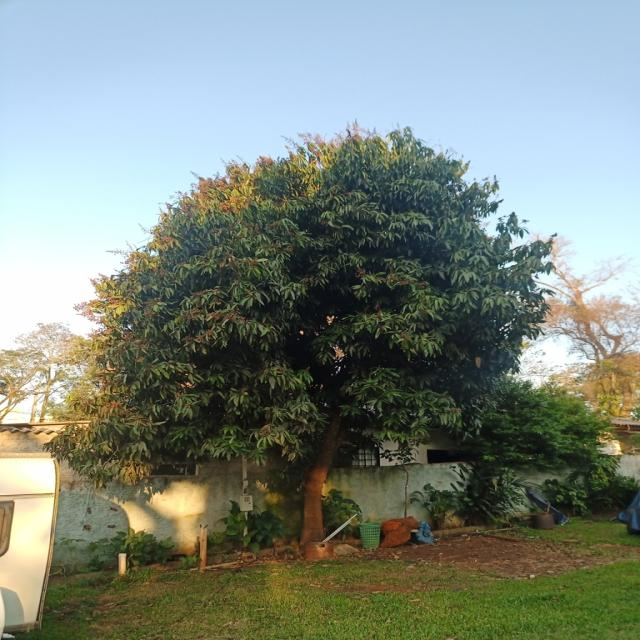Mango-Tree: (68, 151, 565, 543)
